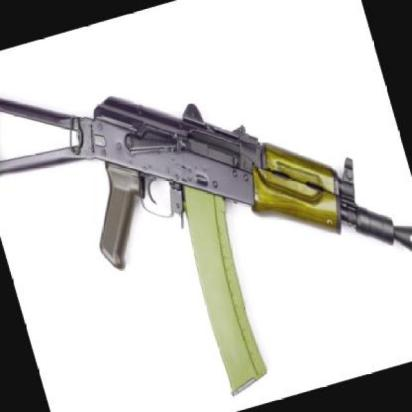Gun: (0, 94, 412, 398)
